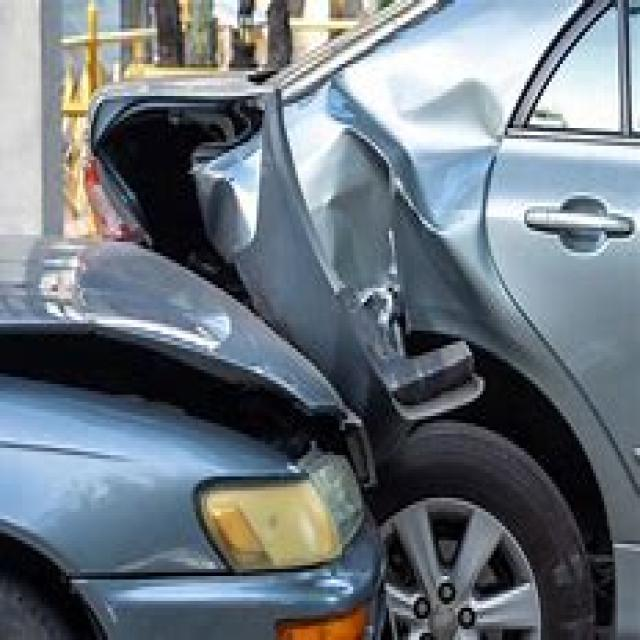multiple_accident: (56, 42, 485, 640)
